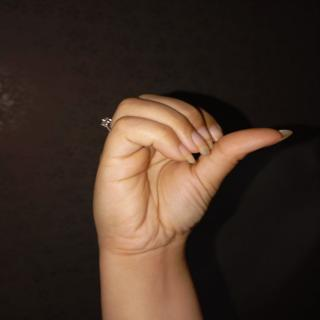WAW: (83, 74, 299, 263)
